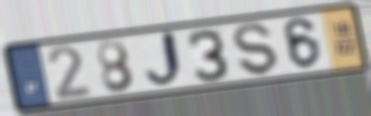2: (45, 45, 94, 103)
3: (187, 27, 232, 84)
6: (282, 17, 324, 71)
8: (95, 39, 136, 95)
J: (143, 28, 188, 93)
S: (231, 21, 281, 77)
